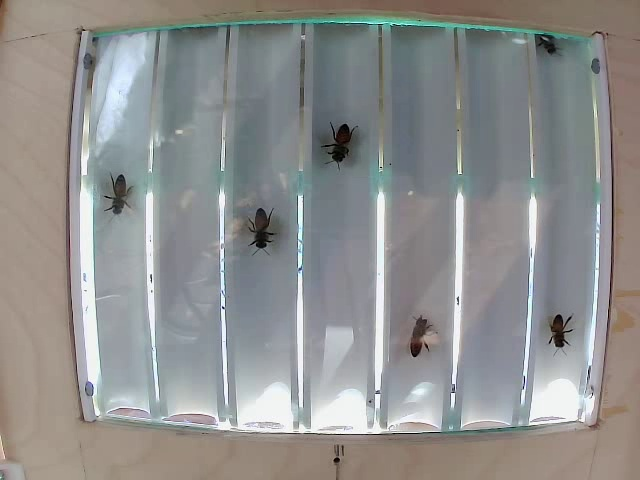bee: (238, 207, 285, 252), (401, 311, 436, 356), (319, 120, 353, 158), (106, 175, 136, 217), (536, 312, 566, 353)
